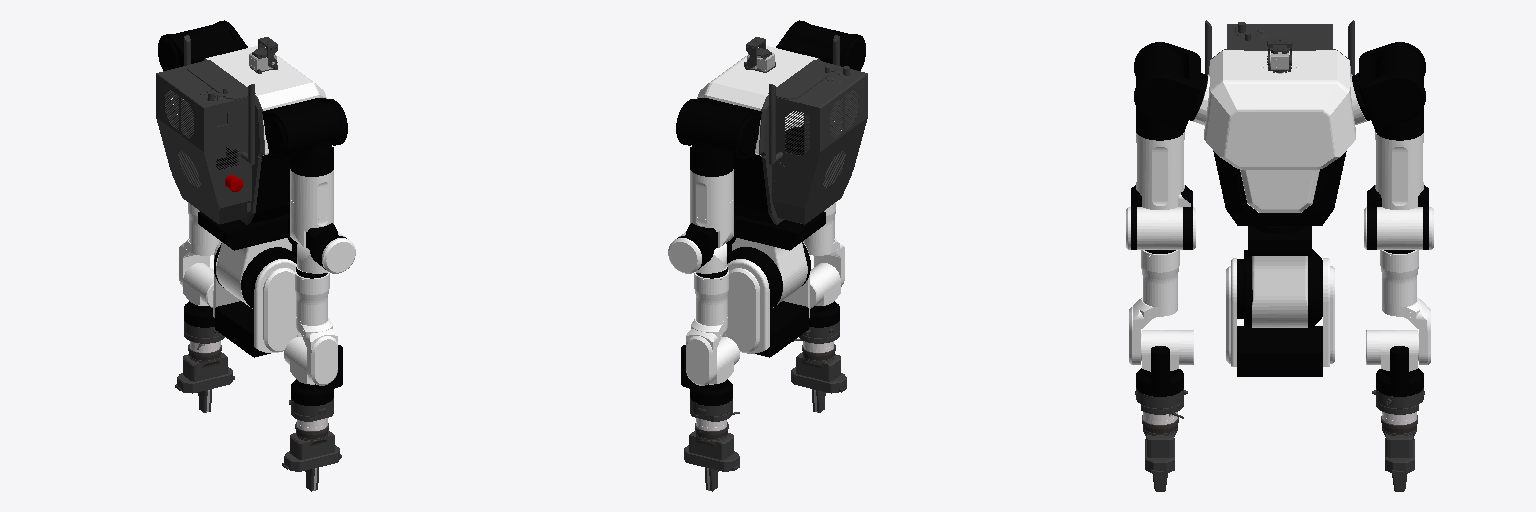
--- Facts derived from the render (not from the file) ---
The picture shows the robot from 3 angles, left to right: view 1: azimuth 30°, elevation 25°; view 2: azimuth 150°, elevation 25°; view 3: azimuth 270°, elevation 25°; orthographic projection.
Model RB_Y1_UpperBody_V1.0.1 with 28 links and 27 joints (18 revolute, 4 prismatic, 5 fixed), rooted at base, posed all joints at 0.
Visible links, largest first — view 1: link_torso_5, base, link_torso_hp, link_right_arm_2, link_right_arm_1, link_right_arm_3, link_right_arm_4, link_right_arm_5, link_right_arm_0, link_left_arm_5, ee_right, ee_left (+6 smaller); view 2: link_torso_5, base, link_torso_hp, link_left_arm_2, link_left_arm_1, link_left_arm_3, link_left_arm_4, link_left_arm_5, link_left_arm_0, link_right_arm_5, ee_left, link_right_arm_0 (+6 smaller); view 3: link_torso_5, link_torso_hp, base, link_right_arm_2, link_left_arm_2, link_right_arm_3, link_left_arm_3, link_right_arm_0, link_left_arm_0, link_right_arm_5, link_left_arm_5, link_right_arm_1 (+9 smaller).
Link boxes in pixels (x1,y1,x2,y2): link_torso_5: [156, 35, 326, 224]; base: [213, 241, 301, 357]; link_torso_hp: [198, 211, 296, 308]; link_right_arm_2: [288, 169, 355, 273]; link_right_arm_1: [281, 102, 338, 176]; link_right_arm_3: [292, 232, 344, 323]; link_right_arm_4: [296, 317, 337, 385]; link_right_arm_5: [284, 337, 342, 405]; link_right_arm_0: [262, 98, 347, 158]; link_left_arm_5: [183, 263, 214, 327]; ee_right: [282, 430, 341, 471]; ee_left: [175, 352, 234, 393]; link_torso_5: [697, 35, 867, 224]; base: [722, 242, 809, 357]; link_torso_hp: [727, 211, 825, 309]; link_left_arm_2: [668, 169, 735, 273]; link_left_arm_1: [685, 102, 742, 176]; link_left_arm_3: [679, 232, 731, 323]; link_left_arm_4: [686, 317, 727, 385]; link_left_arm_5: [681, 337, 739, 405]; link_left_arm_0: [676, 98, 761, 158]; link_right_arm_5: [809, 263, 840, 327]; ee_left: [684, 430, 739, 471]; link_right_arm_0: [776, 20, 865, 70]; link_torso_5: [1189, 20, 1370, 232]; link_torso_hp: [1237, 226, 1322, 327]; base: [1226, 258, 1334, 376]; link_right_arm_2: [1126, 132, 1195, 249]; link_left_arm_2: [1364, 132, 1433, 249]; link_right_arm_3: [1137, 207, 1190, 304]; link_left_arm_3: [1369, 207, 1422, 304]; link_right_arm_0: [1134, 42, 1203, 129]; link_left_arm_0: [1356, 42, 1425, 129]; link_right_arm_5: [1136, 330, 1193, 396]; link_left_arm_5: [1366, 330, 1423, 396]; link_right_arm_1: [1136, 47, 1184, 140].
Bounding box of the posed robot: 0.297 × 0.5667 × 0.9203 m (x, y, z).
28 mesh visuals loaded from 24 distinct referenced files (24 Collada DAE).

URDF robot description (RB_Y1_UpperBody_V1.0.1):
<?xml version="1.0"?>
<robot name="RB_Y1_UpperBody_V1.0.1">
    <mujoco>
        <compiler meshdir="./meshes" balanceinertia="true" discardvisual="false"/>
    </mujoco>

    <link name="base">
        <inertial>
            <mass value="1.96845884"/>
            <origin rpy="0 0 0" xyz="0.00030850 0.00328099 0.06173915"/>
            <inertia ixx="0.01692619" ixy="0.00000207" ixz="0.00002146" iyy="0.00852919"
                     iyz="0.00038087" izz="0.01330217"/>
        </inertial>

        <visual>
            <geometry>
                <mesh filename="./meshes/UB_LINK_BASE.dae"/>
            </geometry>
        </visual>
    </link>

    <link name="link_torso_hp">
        <inertial>
            <mass value="8.52506911"/>
            <origin rpy="0 0 0" xyz="-0.00286246 -0.01952257 0.02364760"/>
            <inertia ixx="0.03842169" ixy="0.00047168" ixz="0.00215015" iyy="0.03948014" iyz="-0.00377178"
                     izz="0.02710491"/>
        </inertial>

        <visual>
            <geometry>
                <mesh filename="./meshes/UB_LINK_HP.dae"/>
            </geometry>
        </visual>


        <collision>
            <origin xyz="-0.070000 0 0.038500" rpy="0 1.5708 0"/>
            <geometry>
                <capsule radius="0.105" length="0.2" coltype="8"/>
                <!-- <capsule sp="0.03 0.0 0.0385" ep="-0.170 0.0 0.0385" radius="0.105"/> -->
            </geometry>
        </collision>
    </link>

    <link name="link_torso_5">
        <inertial>
            <mass value="12.59012341"/>
            <origin rpy="0 0 0" xyz="-0.01338376 0.00025621 -0.03272487"/>
            <inertia ixx="0.21375525" ixy="0.00051520" ixz="0.00880124" iyy="0.16562090" iyz="-0.00023995"
                     izz="0.13308879"/>
        </inertial>

        <visual>
            <geometry>
                <mesh filename="./meshes/LINK_6.dae"/>
            </geometry>
        </visual>

        <collision>
            <origin xyz="0 0 0.0075" rpy="0 0 0"/>
            <geometry>
                <capsule radius="0.155" length="0.1350" coltype="16"/>
                <!-- <capsule sp="0.0 0.0 -0.06" ep="0.0 0.0 0.075" radius="0.155"/> -->
            </geometry>
        </collision>
    </link>

    <link name="link_right_arm_0">
        <inertial>
            <mass value="1.26164242"/>
            <origin rpy="0 0 0" xyz="-0.00316662 0.03437181 -0.00000030"/>
            <inertia ixx="0.00230621" ixy="0.00039024" ixz="-0.00000256" iyy="0.00426418" iyz="0.00000118"
                     izz="0.00432156"/>
        </inertial>

        <visual>
            <geometry>
                <mesh filename="./meshes/LINK_7.dae"/>
            </geometry>
        </visual>

        <collision>
            <origin xyz="-0.015 0.018 -0.008" rpy="0 1.5708 0"/>
            <geometry>
                <capsule radius="0.075" length="0.0700"/>
            </geometry>
        </collision>
    </link>

    <link name="link_right_arm_1">
        <inertial>
            <mass value="2.27287031"/>
            <origin rpy="0 0 0" xyz="-0.00307855 -0.00124741 -0.01294324"/>
            <inertia ixx="0.00388490" ixy="-0.00001477" ixz="0.00011465" iyy="0.00447034"
                     iyz="-0.00010023" izz="0.00288341"/>
        </inertial>

        <visual>
            <geometry>
                <mesh filename="./meshes/LINK_8.dae"/>
            </geometry>
        </visual>

        <collision>
            <origin xyz="0 0 -0.1000" rpy="0 0 0"/>
            <geometry>
                <capsule radius="0.05" length="0.2" coltype="32"/>
                <!-- <capsule sp="0.0 0.0 0.0" ep="0.0 0.0 -0.200" radius="0.050"/> -->
            </geometry>
        </collision>
    </link>

    <link name="link_right_arm_2">
        <inertial>
            <mass value="2.46909439"/>
            <origin rpy="0 0 0" xyz="0.00115434 -0.00196635 -0.16192524"/>
            <inertia ixx="0.00980269" ixy="0.00005871" ixz="0.00051888" iyy="0.00924560" iyz="-0.00045932"
                     izz="0.00329867"/>
        </inertial>

        <visual>
            <geometry>
                <mesh filename="./meshes/LINK_9.dae"/>
            </geometry>
        </visual>

        <collision>
            <origin xyz="0.0260 0 -0.2760" rpy="1.5708 0 0"/>
            <geometry>
                <capsule radius="0.05" length="0.080000" coltype="64"/>
                <!-- <capsule sp="0.026 -0.040 -0.276" ep="0.026 0.040 -0.276" radius="0.05"/> -->
            </geometry>
        </collision>
    </link>

    <link name="link_right_arm_3">
        <inertial>
            <mass value="2.26099493"/>
            <origin rpy="0 0 0" xyz="-0.01603135 -0.00692891 -0.04549811"/>
            <inertia ixx="0.00822606" ixy="0.00027620" ixz="-0.00156570" iyy="0.00844870" iyz="0.00076157"
                     izz="0.00236614"/>
        </inertial>

        <visual>
            <geometry>
                <mesh filename="./meshes/LINK_10.dae"/>
            </geometry>
        </visual>

        <collision>
            <origin xyz="-0.0310 0 -0.1075" rpy="0 0 0"/>
            <geometry>
                <capsule radius="0.04" length="0.1150" coltype="128" colaffinity="30"/>
                <!-- <capsule sp="-0.031 0.0 -0.05" ep="-0.031 0.0 -0.165" radius="0.04"/> -->
            </geometry>
        </collision>
    </link>

    <link name="link_right_arm_4">
        <inertial>
            <mass value="0.42508710"/>
            <origin rpy="0 0 0" xyz="-0.00000011 -0.02696036 0.06182110"/>
            <inertia ixx="0.00082466" ixy="0.0" ixz="0.0" iyy="0.00075398" iyz="-0.00025338"
                     izz="0.00039794"/>
        </inertial>

        <visual>
            <geometry>
                <mesh filename="./meshes/LINK_11.dae"/>
            </geometry>
        </visual>

        <collision>
            <origin xyz="0 -0.038 0.0175" rpy="0 0 0"/>
            <geometry>
                <capsule radius="0.035" length="0.095" coltype="256" colaffinity="30"/>
            </geometry>
        </collision>
    </link>

    <link name="link_right_arm_5">
        <inertial>
            <mass value="1.59194395"/>
            <origin rpy="0 0 0" xyz="0.00318034 -0.00532264 -0.02809655"/>
            <inertia ixx="0.00256054" ixy="-0.00002344" ixz="-0.00001563" iyy="0.00257233"
                     iyz="0.00021608" izz="0.00156092"/>
        </inertial>

        <visual>
            <geometry>
                <mesh filename="./meshes/LINK_12.dae"/>
            </geometry>
        </visual>

        <collision>
            <origin xyz="0 0 -0.1" rpy="0 0 0"/>
            <geometry>
                <capsule radius="0.075" length="0.25" coltype="512" colaffinity="31"/>
                <!-- <capsule sp="0.0 0.0 0.002" ep="0.0 0.0 -0.050" radius="0.075"/> -->
            </geometry>
        </collision>
    </link>

    <link name="link_right_arm_6">
        <inertial>
            <mass value="0.21137279"/>
            <origin rpy="0 0 0" xyz="0.00066810 -0.00031708 -0.09636043"/>
            <inertia ixx="0.00013511" ixy="-0.00000242" ixz="-0.00000102" iyy="0.00014453"
                     iyz="0.00000094" izz="0.00025431"/>
        </inertial>

        <visual>
            <geometry>
                <mesh filename="./meshes/LINK_13.dae"/>
            </geometry>
        </visual>
    </link>

    <link name="link_left_arm_0">
        <inertial>
            <mass value="1.26164242"/>
            <origin rpy="0 0 0" xyz="-0.00316662 -0.03437151 0.00000242"/>
            <inertia ixx="0.00230624" ixy="-0.00039022" ixz="0.00000269" iyy="0.00426418" iyz="0.00000108"
                     izz="0.00432159"/>
        </inertial>

        <visual>
            <geometry>
                <mesh filename="./meshes/LINK_14.dae"/>
            </geometry>
        </visual>

        <collision>
            <origin xyz="-0.015 -0.018 -0.008" rpy="0 1.5708 0"/>
            <geometry>
                <capsule radius="0.075" length="0.0700"/>
            </geometry>
        </collision>
    </link>

    <link name="link_left_arm_1">
        <inertial>
            <mass value="1.88138658"/>
            <origin rpy="0 0 0" xyz="-0.00183470 0.00040596 -0.01008733"/>
            <inertia ixx="0.00295838" ixy="-0.00001176" ixz="0.00006949" iyy="0.00355208" iyz="0.00004467"
                     izz="0.00230558"/>
        </inertial>

        <visual>
            <geometry>
                <mesh filename="./meshes/LINK_15.dae"/>
            </geometry>
        </visual>

        <collision>
            <origin xyz="0 0 -0.1000" rpy="0 0 0"/>
            <geometry>
                <capsule radius="0.050" length="0.2000" colaffinity="768"/>
            </geometry>
        </collision>
    </link>

    <link name="link_left_arm_2">
        <inertial>
            <mass value="2.35634437"/>
            <origin rpy="0 0 0" xyz="0.00066086 -0.00038583 -0.15742972"/>
            <inertia ixx="0.00842712" ixy="0.00000247" ixz="0.00036948" iyy="0.00802311" iyz="-0.00006550"
                     izz="0.00295678"/>
        </inertial>

        <visual>
            <geometry>
                <mesh filename="./meshes/LINK_16.dae"/>
            </geometry>
        </visual>

        <collision>
            <origin xyz="0.0260 0 -0.2760" rpy="1.5708 0 0"/>
            <geometry>
                <capsule radius="0.05" length="0.080000" colaffinity="768"/>
            </geometry>
        </collision>
    </link>

    <link name="link_left_arm_3">
        <inertial>
            <mass value="2.00905891"/>
            <origin rpy="0 0 0" xyz="-0.01565298 0.00793126 -0.04997943"/>
            <inertia ixx="0.00756474" ixy="-0.00026771" ixz="-0.00155419" iyy="0.00772758"
                     iyz="-0.00084364" izz="0.00199754"/>
        </inertial>

        <visual>
            <geometry>
                <mesh filename="./meshes/LINK_17.dae"/>
            </geometry>
        </visual>

        <collision>
            <origin xyz="-0.0310 0 -0.1075" rpy="0 0 0"/>
            <geometry>
                <capsule radius="0.04" length="0.1150" colaffinity="926"/>
            </geometry>
        </collision>
    </link>

    <link name="link_left_arm_4">
        <inertial>
            <mass value="0.42508710"/>
            <origin rpy="0 0 0" xyz="0.00000011 0.02696036 0.06182110"/>
            <inertia ixx="0.00082466" ixy="0.0" ixz="0.0" iyy="0.00075398" iyz="0.00025338"
                     izz="0.00039794"/>
        </inertial>

        <visual>
            <geometry>
                <mesh filename="./meshes/LINK_18.dae"/>
            </geometry>
        </visual>

        <collision>
            <origin xyz="0 0.038000 0.017500" rpy="0 0 0"/>
            <geometry>
                <capsule radius="0.035" length="0.095000" colaffinity="1022"/>
            </geometry>
        </collision>
    </link>

    <link name="link_left_arm_5">
        <inertial>
            <mass value="1.44264795"/>
            <origin rpy="0 0 0" xyz="0.00340082 0.00576824 -0.02507309"/>
            <inertia ixx="0.00233577" ixy="0.00003048" ixz="-0.00001191" iyy="0.00232580"
                     iyz="-0.00019491" izz="0.00138375"/>
        </inertial>

        <visual>
            <geometry>
                <mesh filename="./meshes/LINK_19.dae"/>
            </geometry>
        </visual>

        <collision>
            <origin xyz="0 0 -0.1" rpy="0 0 0"/>
            <geometry>
                <capsule radius="0.075" length="0.25" colaffinity="1023"/>
            </geometry>
        </collision>
    </link>

    <link name="link_left_arm_6">
        <inertial>
            <mass value="0.21137279"/>
            <origin rpy="0 0 0" xyz="-0.00066810 0.00031708 -0.09636043"/>
            <inertia ixx="0.00013511" ixy="-0.00000242" ixz="0.00000102" iyy="0.00014453"
                     iyz="-0.00000094" izz="0.00025431"/>
        </inertial>

        <visual>
            <geometry>
                <mesh filename="./meshes/LINK_20.dae"/>
            </geometry>
        </visual>
    </link>

    <link name="FT_sensor_R">
        <inertial>
            <mass value="0.49078507"/>
            <origin rpy="0 0 0" xyz="0.00010423 0.00108019 -0.01880676"/>
            <inertia ixx="0.00028587" ixy="-0.00000146" ixz="-0.00000026" iyy="0.00030459"
                     iyz="-0.00000772" izz="0.00036377"/>
        </inertial>

        <visual>
            <geometry>
                <mesh filename="./meshes/FT_SENSOR_R.dae"/>
            </geometry>
        </visual>
    </link>

    <link name="FT_sensor_L">
        <inertial>
            <mass value="0.49078507"/>
            <origin rpy="0 0 0" xyz="-0.00010423 -0.00108019 -0.01880676"/>
            <inertia ixx="0.00028587" ixy="-0.00000146" ixz="0.00000026" iyy="0.00030459" iyz="0.00000772"
                     izz="0.00036377"/>
        </inertial>

        <visual>
            <geometry>
                <mesh filename="./meshes/FT_SENSOR_L.dae"/>
            </geometry>
        </visual>
    </link>

    <link name="ee_right">
        <inertial>
            <mass value="0.46704998"/>
            <origin rpy="0 0 0" xyz="0.00212703 0.00000615 -0.04287176"/>
            <inertia ixx="0.00032067" ixy="0.00002383" ixz="-0.00000785" iyy="0.00059559"
                     iyz="-0.00000007" izz="0.00052732"/>
        </inertial>

        <visual>
            <geometry>
                <mesh filename="./meshes/EE_BODY.dae"/>
            </geometry>
        </visual>
    </link>

    <link name="ee_finger_r1">
        <inertial>
            <mass value="0.03326999"/>
            <origin rpy="0 0 0" xyz="0.00278346 -0.00000329 -0.02570112"/>
            <inertia ixx="0.00001231" ixy="0.0" ixz="-0.00000042" iyy="0.00001066" iyz="0.0"
                     izz="0.00000224"/>
        </inertial>

        <visual>
            <geometry>
                <mesh filename="./meshes/EE_FINGER.dae"/>
            </geometry>
        </visual>
    </link>

    <link name="ee_finger_r2">
        <inertial>
            <mass value="0.03326999"/>
            <origin rpy="0 0 0" xyz="0.00278346 -0.00000329 -0.02570112"/>
            <inertia ixx="0.00001231" ixy="0.0" ixz="-0.00000042" iyy="0.00001066" iyz="0.0"
                     izz="0.00000224"/>
        </inertial>

        <visual>
            <geometry>
                <mesh filename="./meshes/EE_FINGER.dae"/>
            </geometry>
        </visual>
    </link>

    <link name="ee_left">
        <inertial>
            <mass value="0.46704998"/>
            <origin rpy="0 0 0" xyz="0.00212703 0.00000615 -0.04287176"/>
            <inertia ixx="0.00032067" ixy="0.00002383" ixz="-0.00000785" iyy="0.00059559"
                     iyz="-0.00000007" izz="0.00052732"/>
        </inertial>

        <visual>
            <geometry>
                <mesh filename="./meshes/EE_BODY.dae"/>
            </geometry>
        </visual>
    </link>

    <link name="ee_finger_l1">
        <inertial>
            <mass value="0.03326999"/>
            <origin rpy="0 0 0" xyz="0.00278346 -0.00000329 -0.02570112"/>
            <inertia ixx="0.00001231" ixy="0.0" ixz="-0.00000042" iyy="0.00001066" iyz="0.0"
                     izz="0.00000224"/>
        </inertial>

        <visual>
            <geometry>
                <mesh filename="./meshes/EE_FINGER.dae"/>
            </geometry>
        </visual>
    </link>

    <link name="ee_finger_l2">
        <inertial>
            <mass value="0.03326999"/>
            <origin rpy="0 0 0" xyz="0.00278346 -0.00000329 -0.02570112"/>
            <inertia ixx="0.00001231" ixy="0.0" ixz="-0.00000042" iyy="0.00001066" iyz="0.0"
                     izz="0.00000224"/>
        </inertial>

        <visual>
            <geometry>
                <mesh filename="./meshes/EE_FINGER.dae"/>
            </geometry>
        </visual>
    </link>

    <link name="link_head_0">
        <inertial>
            <mass value="0.07582110"/>
            <origin rpy="0 0 0" xyz="-0.00800549 0.0 -0.01100308"/>
            <inertia ixx="0.00003307" ixy="0.0" ixz="-0.00000290" iyy="0.00002209" iyz="0.0"
                     izz="0.00003796"/>
        </inertial>

        <visual>
            <geometry>
                <mesh filename="./meshes/PAN_TILT_1.dae"/>
            </geometry>
        </visual>
    </link>

    <link name="link_head_1">
        <inertial>
            <mass value="0.07450580"/>
            <origin rpy="0 0 0" xyz="-0.01150679 -0.00114270 -0.00031579"/>
            <inertia ixx="0.00001850" ixy="-0.00000035" ixz="0.00000203" iyy="0.00002451"
                     iyz="-0.00000010" izz="0.00002062"/>
        </inertial>

        <visual>
            <geometry>
                <mesh filename="./meshes/PAN_TILT_2.dae"/>
            </geometry>
        </visual>
    </link>

    <link name="link_head_2">
        <inertial>
            <mass value="0.03585374"/>
            <origin rpy="0 0 0" xyz="-0.00081966 0.00099024 0.02283704"/>
            <inertia ixx="0.00002046" ixy="0.00000001" ixz="-0.00000027" iyy="0.00001044" iyz="0.00000076"
                     izz="0.00001291"/>
        </inertial>

        <visual>
            <geometry>
                <mesh filename="./meshes/PAN_TILT_3.dae"/>
            </geometry>
        </visual>
    </link>


    <!-- Joints -->

    <joint name="torso_hp" type="revolute">
        <parent link="base"/>
        <child link="link_torso_hp"/>
        <origin rpy="0.0 0.0 0.0" xyz="0.0 0.0 0.153"/>
        <axis xyz="0 1 0"/>
        <!-- Nm, rad/s^2, rad/s, (min) rad, (max) rad -->
        <!-- 250Nm, 5rad/s^2, 120deg/s, -90deg, 90deg -->
        <limit effort="250.0"
               acceleration="5.0"
               velocity="2.09439510"
               lower="-1.570796327"
               upper="1.570796327"
        />
    </joint>

    <joint name="torso_5" type="revolute">
        <parent link="link_torso_hp"/>
        <child link="link_torso_5"/>
        <origin rpy="0.0 0.0 0.0" xyz="0.0 0.0 0.332326548"/>
        <axis xyz="0 0 1"/>
        <!-- Nm, rad/s^2, rad/s, (min) rad, (max) rad -->
        <!-- 120Nm, 5rad/s^2, 180deg/s, -135deg, 135deg -->
        <limit effort="120.0"
               acceleration="5.0"
               velocity="3.141592654"
               lower="-2.35619449"
               upper="2.35619449"
        />
    </joint>

    <joint name="right_arm_0" type="revolute">
        <parent link="link_torso_5"/>
        <child link="link_right_arm_0"/>
        <origin rpy="0.0 0.0 0.0" xyz="0.0 -0.220 0.080073451539 "/>
        <axis xyz="0.0 0.93969262 -0.34202014"/>
        <!-- Nm, rad/s^2, rad/s, (min) rad, (max) rad -->
        <!-- 70Nm, 10rad/s^2, 180deg/s, -180deg, 180deg -->
        <limit effort="70.0"
               acceleration="10.0"
               velocity="3.141592654"
               lower="-3.141592654"
               upper="3.141592654"
        />
    </joint>

    <joint name="right_arm_1" type="revolute">
        <parent link="link_right_arm_0"/>
        <child link="link_right_arm_1"/>
        <origin rpy="0.0 0.0 0.0" xyz="0.0 0.0 0.0"/>
        <axis xyz="1 0 0"/>
        <!-- Nm, rad/s^2, rad/s, (min) rad, (max) rad -->
        <!-- 70Nm, 10rad/s^2, 180deg/s, -180deg, 1deg -->
        <limit effort="70.0"
               acceleration="10.0"
               velocity="3.141592654"
               lower="-3.141592654"
               upper="0.017453293"
        />
    </joint>

    <joint name="right_arm_2" type="revolute">
        <parent link="link_right_arm_1"/>
        <child link="link_right_arm_2"/>
        <origin rpy="0.0 0.0 0.0" xyz="0.0 0.0 0.0"/>
        <axis xyz="0 0 1"/>
        <!-- Nm, rad/s^2, rad/s, (min) rad, (max) rad -->
        <!-- 70Nm, 10rad/s^2, 180deg/s, -180deg, 180deg -->
        <limit effort="70.0"
               acceleration="10.0"
               velocity="3.141592654"
               lower="-3.141592654"
               upper="3.141592654"
        />
    </joint>

    <joint name="right_arm_3" type="revolute">
        <parent link="link_right_arm_2"/>
        <child link="link_right_arm_3"/>
        <origin rpy="0.0 0.0 0.0" xyz="0.031 0.0 -0.276"/>
        <axis xyz="0 1 0"/>
        <!-- Nm, rad/s^2, rad/s, (min) rad, (max) rad -->
        <!-- 40Nm, 10rad/s^2, 180deg/s, -150deg, 1deg -->
        <limit effort="40.0"
               acceleration="10.0"
               velocity="3.141592654"
               lower="-2.617993878"
               upper="0.017453293"
        />
    </joint>

    <joint name="right_arm_4" type="revolute">
        <parent link="link_right_arm_3"/>
        <child link="link_right_arm_4"/>
        <origin rpy="0.0 0.0 0.0" xyz="-0.031 0.0 -0.256"/>
        <axis xyz="0 0 1"/>
        <!-- Nm, rad/s^2, rad/s, (min) rad, (max) rad -->
        <!-- 10Nm, 10rad/s^2, 360deg/s, -180deg, 180deg -->
        <limit effort="10.0"
               acceleration="10.0"
               velocity="6.283185308"
               lower="-3.141592654"
               upper="3.141592654"
        />
    </joint>

    <joint name="right_arm_5" type="revolute">
        <parent link="link_right_arm_4"/>
        <child link="link_right_arm_5"/>
        <origin rpy="0.0 0.0 0.0" xyz="0.0 0.0 0.0"/>
        <axis xyz="0 1 0"/>
        <!-- Nm, rad/s^2, rad/s, (min) rad, (max) rad -->
        <!-- 10Nm, 10rad/s^2, 360deg/s, -90deg, 110deg -->
        <limit effort="10.0"
               acceleration="10.0"
               velocity="6.283185308"
               lower="-1.570796327"
               upper="1.919862177"
        />
    </joint>

    <joint name="right_arm_6" type="revolute">
        <parent link="link_right_arm_5"/>
        <child link="link_right_arm_6"/>
        <origin rpy="0.0 0.0 0.0" xyz="0.0 0.0 0.0"/>
        <axis xyz="0 0 1"/>
        <!-- Nm, rad/s^2, rad/s, (min) rad, (max) rad -->
        <!-- 8Nm, 10rad/s^2, 120deg/s, -155deg, 155deg -->
        <limit effort="8.0"
               acceleration="10.0"
               velocity="2.094395102"
               lower="-2.705260340"
               upper="2.705260340"
        />
    </joint>

    <joint name="left_arm_0" type="revolute">
        <parent link="link_torso_5"/>
        <child link="link_left_arm_0"/>
        <origin rpy="0.0 0.0 0.0" xyz="0.0 0.220 0.080073452 "/>
        <axis xyz="0.0 0.93969262 0.34202014"/>
        <!-- Nm, rad/s^2, rad/s, (min) rad, (max) rad -->
        <!-- 70Nm, 10rad/s^2, 180deg/s, -180deg, 180deg -->
        <limit effort="70.0"
               acceleration="10.0"
               velocity="3.141592654"
               lower="-3.141592654"
               upper="3.141592654"
        />
    </joint>

    <joint name="left_arm_1" type="revolute">
        <parent link="link_left_arm_0"/>
        <child link="link_left_arm_1"/>
        <origin rpy="0.0 0.0 0.0" xyz="0.0 0.0 0.0"/>
        <axis xyz="1 0 0"/>
        <!-- Nm, rad/s^2, rad/s, (min) rad, (max) rad -->
        <!-- 70Nm, 10rad/s^2, 180deg/s, -1deg, 180deg -->
        <limit effort="70.0"
               acceleration="10.0"
               velocity="3.141592654"
               lower="-0.017453293"
               upper="3.141592654"
        />
    </joint>

    <joint name="left_arm_2" type="revolute">
        <parent link="link_left_arm_1"/>
        <child link="link_left_arm_2"/>
        <origin rpy="0.0 0.0 0.0" xyz="0.0 0.0 0.0"/>
        <axis xyz="0 0 1"/>
        <!-- Nm, rad/s^2, rad/s, (min) rad, (max) rad -->
        <!-- 70Nm, 10rad/s^2, 180deg/s, -180deg, 180deg -->
        <limit effort="70.0"
               acceleration="10.0"
               velocity="3.141592654"
               lower="-3.141592654"
               upper="3.141592654"
        />
    </joint>

    <joint name="left_arm_3" type="revolute">
        <parent link="link_left_arm_2"/>
        <child link="link_left_arm_3"/>
        <origin rpy="0.0 0.0 0.0" xyz="0.031 0.0 -0.276"/>
        <axis xyz="0 1 0"/>
        <!-- Nm, rad/s^2, rad/s, (min) rad, (max) rad -->
        <!-- 40Nm, 10rad/s^2, 180deg/s, -150deg, 1deg -->
        <limit effort="40.0"
               acceleration="10.0"
               velocity="3.141592654"
               lower="-2.617993878"
               upper="0.017453293"
        />
    </joint>

    <joint name="left_arm_4" type="revolute">
        <parent link="link_left_arm_3"/>
        <child link="link_left_arm_4"/>
        <origin rpy="0.0 0.0 0.0" xyz="-0.031 0.0 -0.256"/>
        <axis xyz="0 0 1"/>
        <!-- Nm, rad/s^2, rad/s, (min) rad, (max) rad -->
        <!-- 10Nm, 10rad/s^2, 360deg/s, -180deg, 180deg -->
        <limit effort="10.0"
               acceleration="10.0"
               velocity="6.283185308"
               lower="-3.141592654"
               upper="3.141592654"
        />
    </joint>

    <joint name="left_arm_5" type="revolute">
        <parent link="link_left_arm_4"/>
        <child link="link_left_arm_5"/>
        <origin rpy="0.0 0.0 0.0" xyz="0.0 0.0 0.0"/>
        <axis xyz="0 1 0"/>
        <!-- Nm, rad/s^2, rad/s, (min) rad, (max) rad -->
        <!-- 10Nm, 10rad/s^2, 360deg/s, -90deg, 110deg -->
        <limit effort="10.0"
               acceleration="10.0"
               velocity="6.283185308"
               lower="-1.570796327"
               upper="1.919862177"
        />
    </joint>

    <joint name="left_arm_6" type="revolute">
        <parent link="link_left_arm_5"/>
        <child link="link_left_arm_6"/>
        <origin rpy="0.0 0.0 0.0" xyz="0.0 0.0 0.0"/>
        <axis xyz="0 0 1"/>
        <!-- Nm, rad/s^2, rad/s, (min) rad, (max) rad -->
        <!-- 8Nm, 10rad/s^2, 120deg/s, -155deg, 155deg -->
        <limit effort="8.0"
               acceleration="10.0"
               velocity="2.094395102"
               lower="-2.705260340"
               upper="2.705260340"
        />
    </joint>

    <joint name="tool_right" type="fixed">
        <parent link="link_right_arm_6"/>
        <child link="FT_sensor_R"/>
        <origin rpy="0.0 0.0 0.0" xyz="0.0 0.0 -0.1087"/>
        <axis xyz="0 0 1"/>
    </joint>

    <joint name="FT_Sensor_END_right" type="fixed">
        <parent link="FT_sensor_R"/>
        <child link="ee_right"/>
        <origin rpy="0.0 0.0 0.0" xyz="0.0 0.0 -0.0461"/>
        <axis xyz="0 0 1"/>
    </joint>

    <joint name="gripper_finger_r1" type="prismatic" in_model_type="fixed">
        <parent link="ee_right"/>
        <child link="ee_finger_r1"/>
        <origin rpy="0.0 0.0 0.0" xyz="0.003 0.0 -0.073"/>
        <axis xyz="-1 0 0"/>
        <limit effort="1000" velocity="0.05" lower="-0.05" upper="0"/>
    </joint>

    <joint name="gripper_finger_r2" type="prismatic" in_model_type="fixed">
        <parent link="ee_right"/>
        <child link="ee_finger_r2"/>
        <origin rpy="0.0 0.0 3.1415926535" xyz="-0.003 0.0 -0.073"/>
        <axis xyz="1 0 0"/>
        <limit effort="1000" velocity="0.05" lower="0" upper="0.05"/>
    </joint>

    <joint name="tool_left" type="fixed">
        <parent link="link_left_arm_6"/>
        <child link="FT_sensor_L"/>
        <origin rpy="0.0 0.0 0" xyz="0.0 0.0 -0.1087"/>
        <axis xyz="0 0 1"/>
    </joint>

    <joint name="FT_Sensor_END_left" type="fixed">
        <parent link="FT_sensor_L"/>
        <child link="ee_left"/>
        <origin rpy="0.0 0.0 0.0" xyz="0.0 0.0 -0.0461"/>
        <axis xyz="0 0 1"/>
    </joint>

    <joint name="gripper_finger_l1" type="prismatic" in_model_type="fixed">
        <parent link="ee_left"/>
        <child link="ee_finger_l1"/>
        <origin rpy="0.0 0.0 0.0" xyz="0.003 0.0 -0.073"/>
        <axis xyz="-1 0 0"/>
        <limit effort="1000" velocity="0.05" lower="-0.05" upper="0"/>
    </joint>

    <joint name="gripper_finger_l2" type="prismatic" in_model_type="fixed">
        <parent link="ee_left"/>
        <child link="ee_finger_l2"/>
        <origin rpy="0.0 0.0 3.1415926535" xyz="-0.003 0.0 -0.073"/>
        <axis xyz="1 0 0"/>
        <limit effort="1000" velocity="0.05" lower="0" upper="0.05"/>
    </joint>

    <joint name="head_base" type="fixed">
        <parent link="link_torso_5"/>
        <child link="link_head_0"/>
        <origin rpy="0.0 0.0 0.0" xyz="0.022 0.0 0.120073451525"/>
        <axis xyz="0 0 1"/>
    </joint>

    <joint name="head_0" type="revolute">
        <parent link="link_head_0"/>
        <child link="link_head_1"/>
        <origin rpy="0.0 0.0 0.0" xyz="0.0 0.0 0.02"/>
        <axis xyz="0 0 1"/>
        <limit effort="1000" velocity="3.14" lower="-0.523" upper="0.523"/>
    </joint>

    <joint name="head_1" type="revolute">
        <parent link="link_head_1"/>
        <child link="link_head_2"/>
        <origin rpy="0.0 0.0 0.0" xyz="0.0 0.0 0.0"/>
        <axis xyz="0 1 0"/>
        <limit effort="1000" velocity="3.14" lower="-0.35" upper="1.57"/>
    </joint>

    <!-- <joint name="head_mount" type="fixed">
      <parent link="link_head_2"/>
      <child link="Arbitrary device"/>
      <origin rpy="0.0 0.0 0.0" xyz="0.022 0.0 0.04"/>
      <axis xyz="0 0 1"/>
    </joint> -->

</robot>
